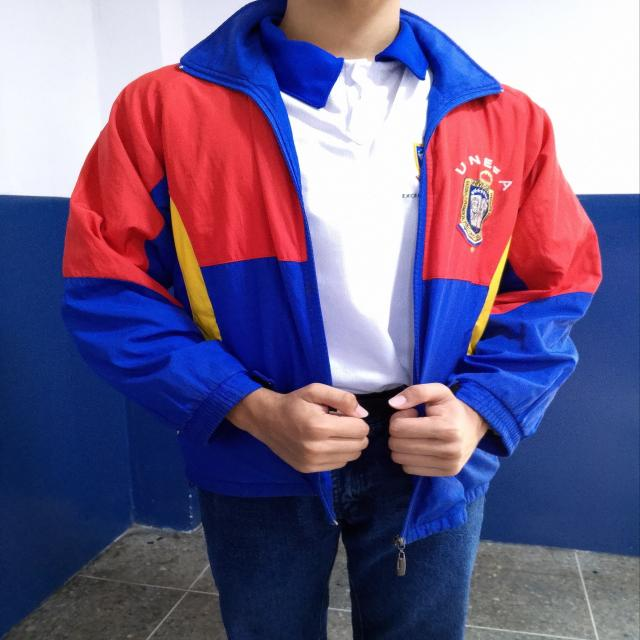chaqueta_unefa: (59, 0, 605, 577)
